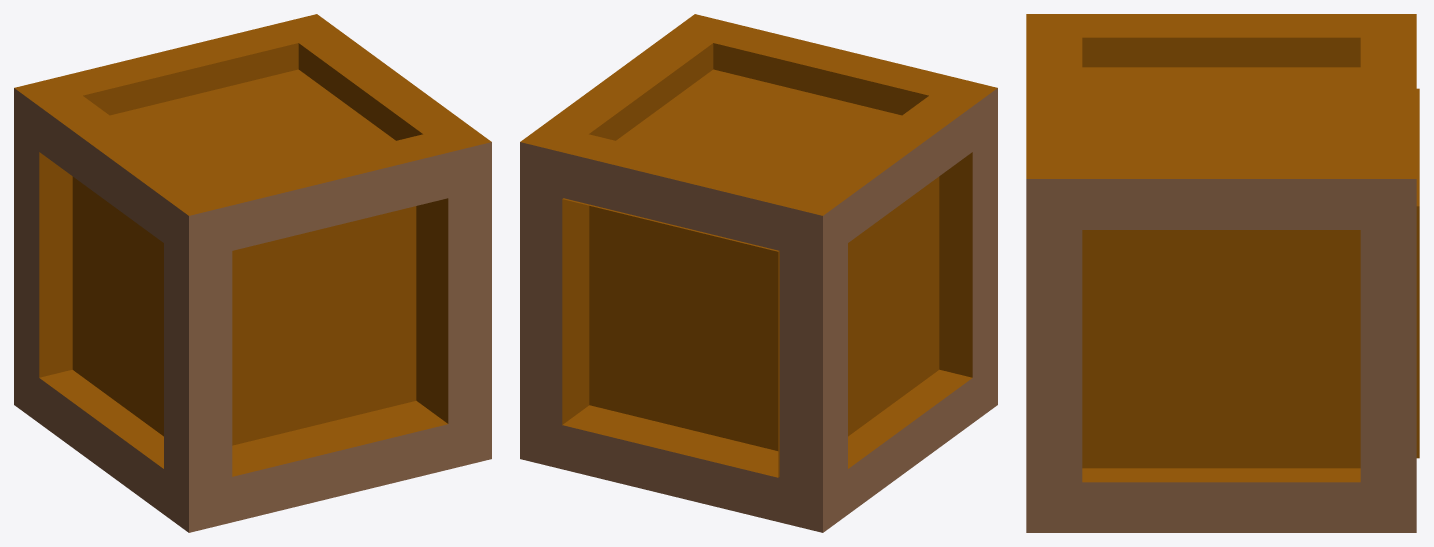
The picture shows the model from 3 angles, left to right: view 1: azimuth 30°, elevation 25°; view 2: azimuth 150°, elevation 25°; view 3: azimuth 270°, elevation 25°; orthographic projection. The views are drawn at different scales.
Visible parts, largest first — view 1: Cube; view 2: Cube; view 3: Cube.
Boxes of the visible parts, bbox=[...] form: Cube: bbox=[14, 14, 491, 532]; Cube: bbox=[520, 14, 997, 532]; Cube: bbox=[1026, 14, 1419, 532].
Size of the model in its own units: 305 by 307 by 305.
